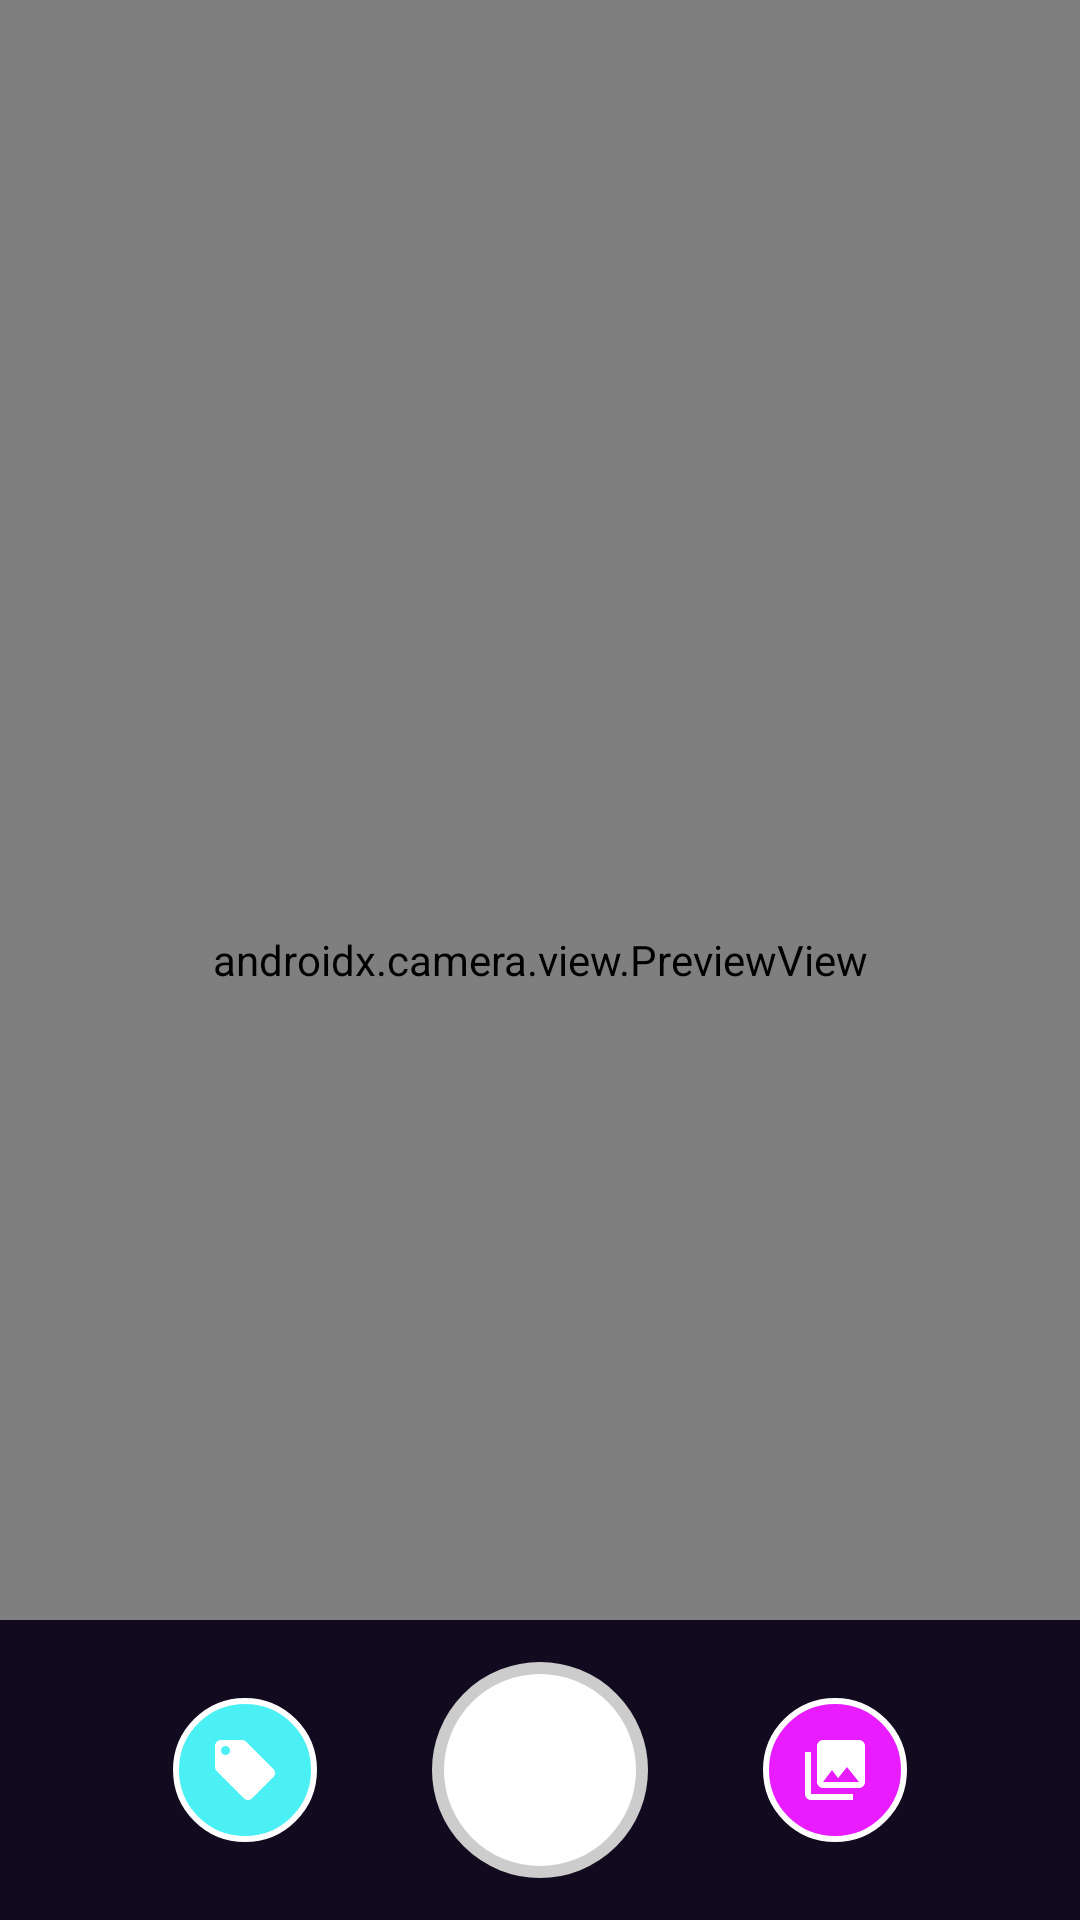

Icons on this 1080px×1920px Android screen, each with the point to tap as point (x, y):
Gallery: point (835, 1770)
Tag Session: point (245, 1770)
